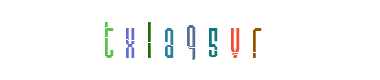5: (150, 0, 230, 80)
A: (127, 0, 207, 80)
L: (123, 0, 203, 80)
Q: (150, 0, 230, 80)
R: (215, 0, 295, 80)
T: (76, 0, 156, 80)
V: (195, 0, 275, 80)
X: (108, 0, 188, 80)
